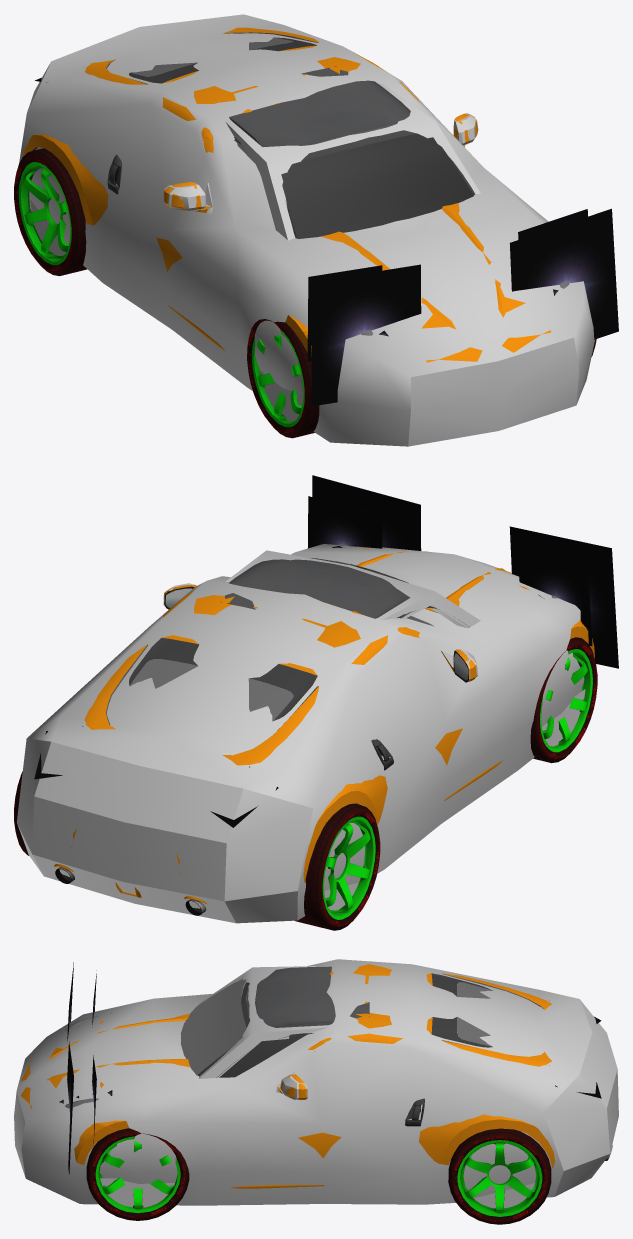
File: P_car-009_Treseteta.fbx
3 views of the same model, one above another, from view 1: azimuth 30°, elevation 25°; view 2: azimuth 150°, elevation 25°; view 3: azimuth 270°, elevation 25° (orthographic). The views are drawn at different scales.
Visible parts, largest first — view 1: M_Car-009_Shadowform_Treseteta_01, M_Car-009_FrontFlares_Treseteta_01, M_Car-Interior_Glass_01, M_Car-009_Body_Treseteta_01, M_Car-Interior_Details_01, M_CarWheel-002_L_AP_01 (×2), M_Car-Interior_Shadowform_01, M_CarTire-002_L_AP_01 (×2), M_CarTire-002_L_AP (×2), M_Car-009_Details_Treseteta_01, M_Car-009_Glass_Treseteta_01; view 2: M_Car-009_Shadowform_Treseteta_01, M_Car-009_FrontFlares_Treseteta_01, M_Car-009_Body_Treseteta_01, M_Car-Interior_Details_01, M_CarWheel-002_L_AP_01 (×2), M_Car-009_Details_Treseteta_01, M_CarTire-002_L_AP (×2), M_Car-Interior_Shadowform_01, M_Car-009_Glass_Treseteta_01, M_CarTire-002_L_AP_01; view 3: M_Car-009_Shadowform_Treseteta_01, M_Car-009_Body_Treseteta_01, M_CarWheel-002_L_AP_01 (×2), M_Car-Interior_Details_01, M_Car-Interior_Glass_01, M_Car-Interior_Shadowform_01, M_CarTire-002_L_AP (×2), M_CarTire-002_L_AP_01 (×2), M_Car-009_Details_Treseteta_01, M_Car-009_Glass_Treseteta_01, M_Car-009_FrontFlares_Treseteta_01.
Part boxes in pixels (x1=…): M_Car-009_Shadowform_Treseteta_01: x1=19, y1=14, x2=595, y2=446; M_Car-009_FrontFlares_Treseteta_01: x1=307, y1=208, x2=618, y2=406; M_Car-Interior_Glass_01: x1=281, y1=133, x2=473, y2=238; M_Car-009_Body_Treseteta_01: x1=23, y1=27, x2=551, y2=362; M_Car-Interior_Details_01: x1=229, y1=66, x2=475, y2=238; M_CarWheel-002_L_AP_01 (×2): x1=14, y1=148, x2=319, y2=438; M_Car-Interior_Shadowform_01: x1=225, y1=83, x2=480, y2=240; M_CarTire-002_L_AP_01 (×2): x1=18, y1=162, x2=291, y2=407; M_CarTire-002_L_AP (×2): x1=32, y1=182, x2=304, y2=427; M_Car-009_Details_Treseteta_01: x1=32, y1=32, x2=318, y2=194; M_Car-009_Glass_Treseteta_01: x1=130, y1=37, x2=569, y2=335; M_Car-009_Shadowform_Treseteta_01: x1=16, y1=544, x2=585, y2=923; M_Car-009_FrontFlares_Treseteta_01: x1=307, y1=475, x2=618, y2=668; M_Car-009_Body_Treseteta_01: x1=54, y1=548, x2=594, y2=910; M_Car-Interior_Details_01: x1=220, y1=558, x2=469, y2=627; M_CarWheel-002_L_AP_01 (×2): x1=294, y1=637, x2=597, y2=930; M_Car-009_Details_Treseteta_01: x1=55, y1=586, x2=582, y2=915; M_CarTire-002_L_AP (×2): x1=331, y1=649, x2=592, y2=919; M_Car-Interior_Shadowform_01: x1=225, y1=550, x2=480, y2=628; M_Car-009_Glass_Treseteta_01: x1=129, y1=545, x2=557, y2=721; M_CarTire-002_L_AP_01: x1=322, y1=816, x2=361, y2=919; M_Car-009_Shadowform_Treseteta_01: x1=14, y1=959, x2=618, y2=1208; M_Car-009_Body_Treseteta_01: x1=21, y1=964, x2=613, y2=1188; M_CarWheel-002_L_AP_01 (×2): x1=86, y1=1128, x2=551, y2=1224; M_Car-Interior_Details_01: x1=197, y1=966, x2=369, y2=1077; M_Car-Interior_Glass_01: x1=180, y1=979, x2=313, y2=1077; M_Car-Interior_Shadowform_01: x1=199, y1=965, x2=328, y2=1078; M_CarTire-002_L_AP (×2): x1=117, y1=1145, x2=542, y2=1216; M_CarTire-002_L_AP_01 (×2): x1=95, y1=1136, x2=520, y2=1211; M_Car-009_Details_Treseteta_01: x1=405, y1=973, x2=612, y2=1160; M_Car-009_Glass_Treseteta_01: x1=65, y1=982, x2=492, y2=1108; M_Car-009_FrontFlares_Treseteta_01: x1=59, y1=962, x2=112, y2=1174.
Size of the model in its own units: 2.03 by 1.37 by 4.27.
